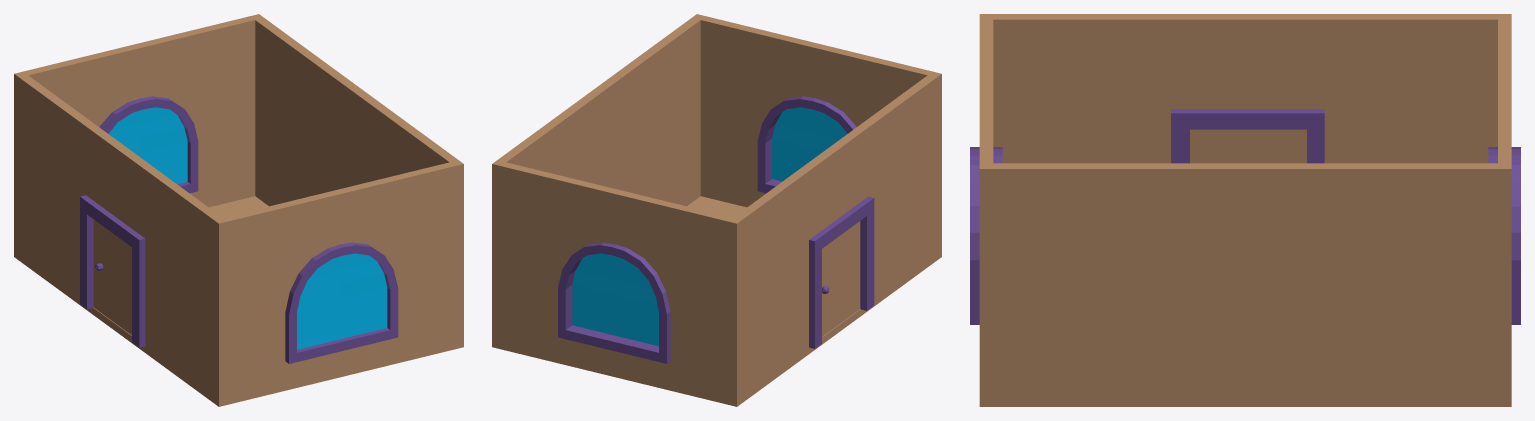
The model's file is CajaCasa 1.3 Interior.fbx.
The picture shows the model from 3 angles, left to right: view 1: azimuth 30°, elevation 25°; view 2: azimuth 150°, elevation 25°; view 3: azimuth 270°, elevation 25°; orthographic projection. The views are drawn at different scales.
Parts seen in each view (by area): view 1: Casa 3.002; view 2: Casa 3.002; view 3: Casa 3.002.
Part boxes in pixels (x1=…): Casa 3.002: x1=14, y1=14, x2=463, y2=406; Casa 3.002: x1=492, y1=14, x2=941, y2=406; Casa 3.002: x1=970, y1=14, x2=1520, y2=406.
Bounding box in the file's own units: 817 × 570 × 1196.
